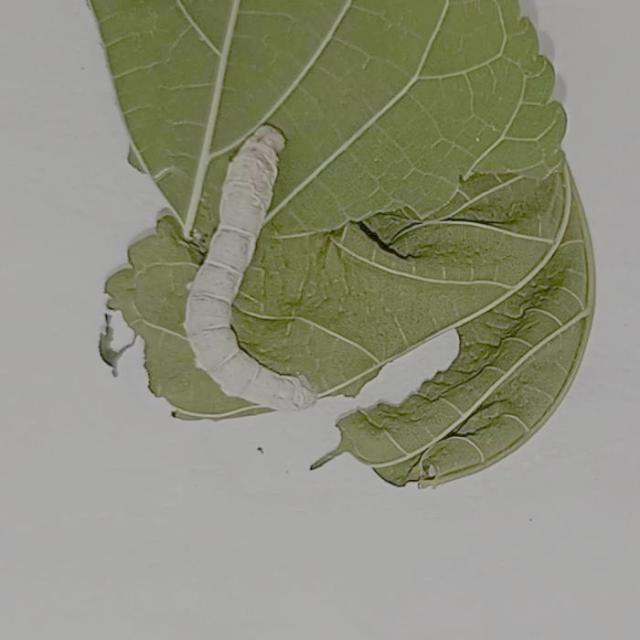Healthy: (147, 106, 362, 445)
